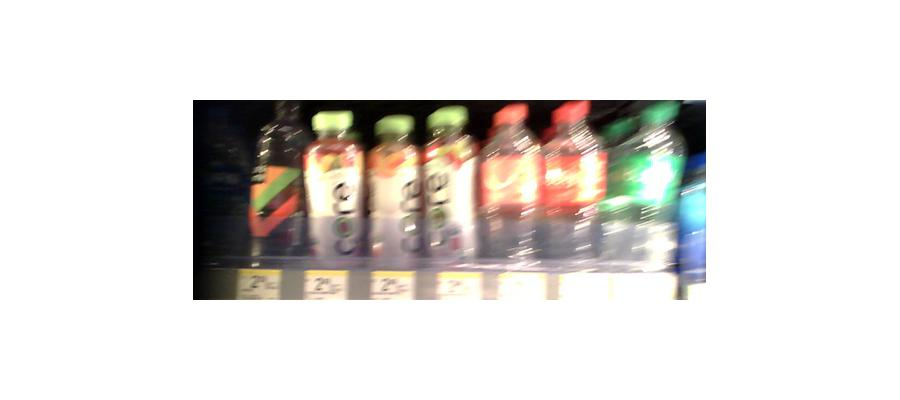bottle: (604, 107, 687, 275), (539, 100, 603, 268), (477, 106, 539, 266), (304, 113, 368, 263), (249, 101, 302, 264), (421, 107, 474, 267), (369, 111, 419, 271)
